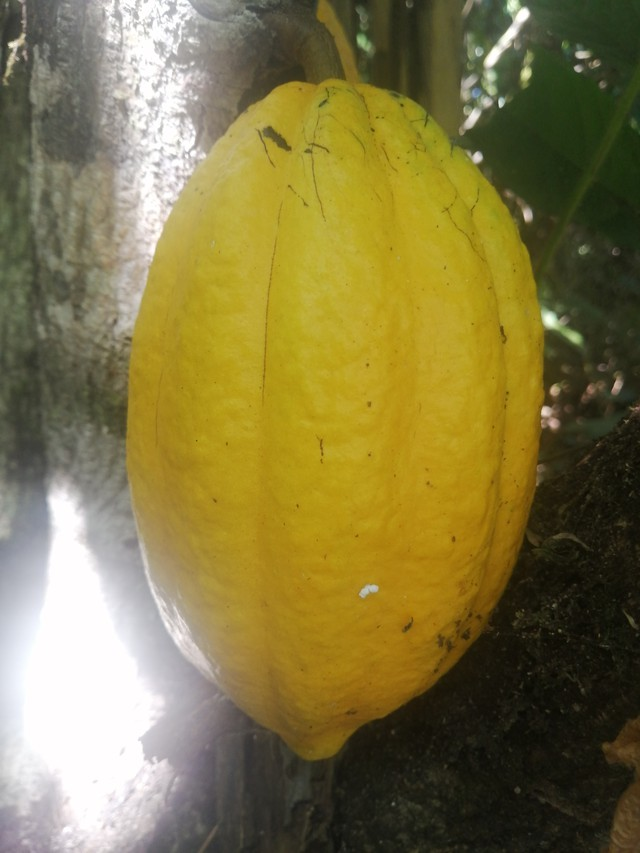Health: (96, 65, 560, 780)
